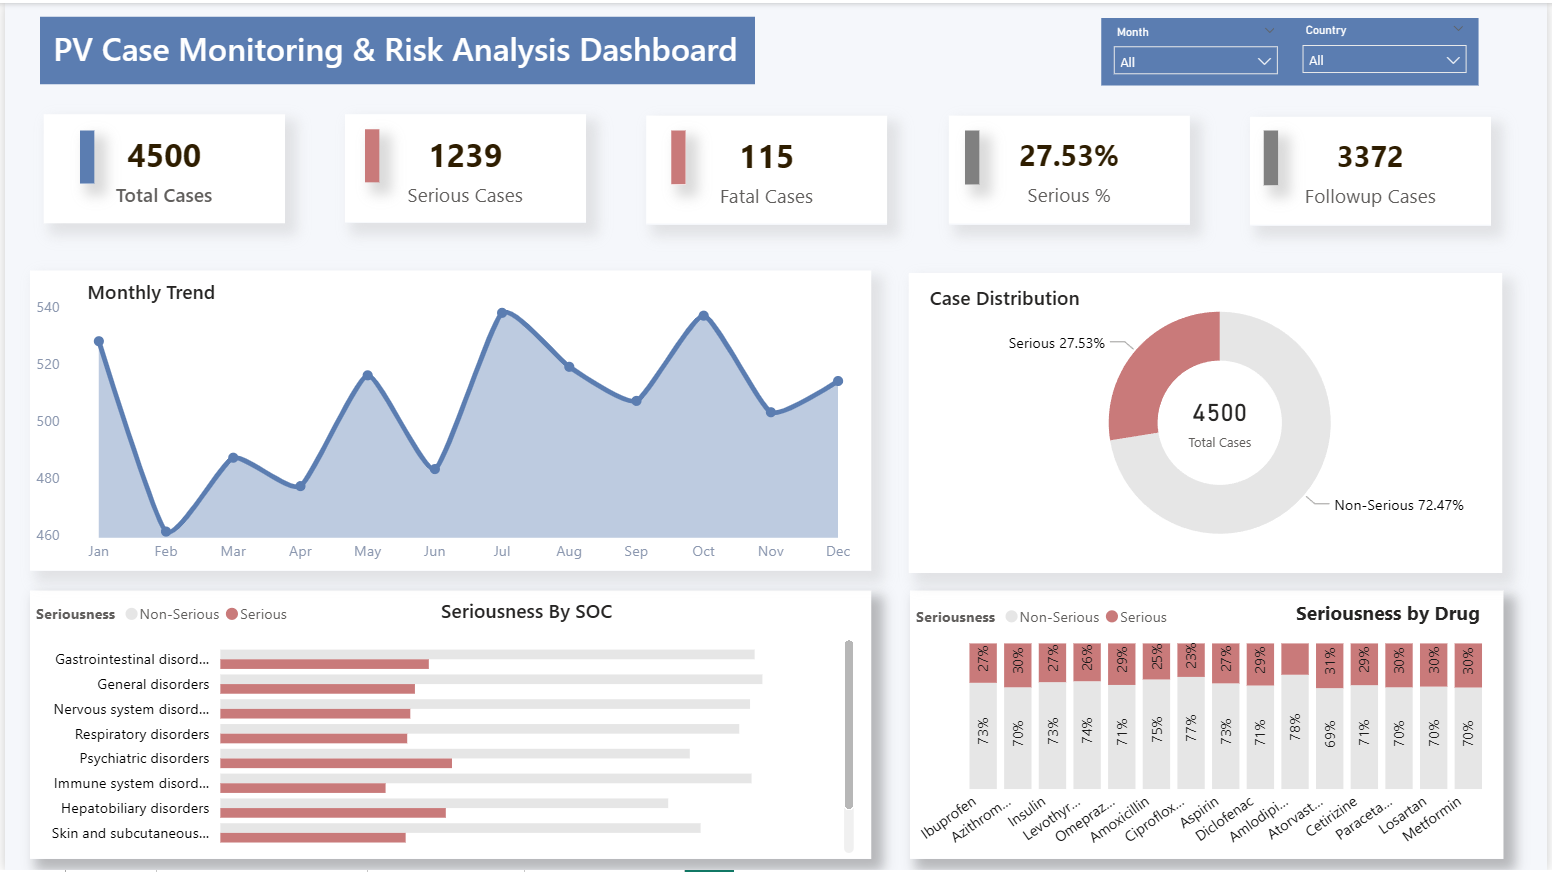

This screenshot's page, from the dashboard's own definition file:
{"tool":"powerbi","page":{"name":" Overview & Monitoring","canvas":[1280,720],"ordinal":1},"visuals":[{"type":"shape","box":[908.8,12.4,313,56],"z":0},{"type":"shape","box":[29,11.4,592.7,56],"z":1000},{"type":"shape","box":[750.3,487,492.2,222.8],"z":2000},{"type":"shape","box":[20.7,487,697.4,222.8],"z":3000},{"type":"shape","box":[749.2,223.8,492.2,248.7],"z":4000},{"type":"shape","box":[20.7,221.8,697.4,248.7],"z":5000},{"type":"textbox","box":[35.2,14.5,585.5,48.7],"z":6000},{"type":"group","id":"g1","title":"Group 1","box":[532.1,93.2,200,90],"z":7000,"group":"g7"},{"type":"areaChart","fields":{"Y":["PV_Cases.Total Cases"],"Category":["Date.Month"]},"box":[20.7,238.3,697.4,234.2],"z":7000},{"type":"group","id":"g2","title":"Group 3","box":[282.1,92.7,200,90],"z":8000,"group":"g6"},{"type":"textbox","box":[63.2,222.8,131.6,32.1],"z":8000},{"type":"clusteredBarChart","fields":{"Category":["Dim_Soc.SOCName"],"Y":["PV_Cases.Total Cases"],"Series":["PV_Cases.Seriousness"]},"box":[20.7,487,688.1,222.8],"z":9000},{"type":"group","id":"g3","title":"Group 2","box":[1032.1,94.3,200,90],"z":10000,"group":"g9"},{"type":"textbox","box":[356.5,487,166.8,41.5],"z":10000},{"type":"group","id":"g4","title":"Group 4","box":[32.1,92.7,200,90],"z":11000},{"type":"group","id":"g5","title":"Group 5","box":[782.1,93.7,200,90],"z":11000,"group":"g8"},{"type":"card","fields":{"Values":["PV_Cases.Total Cases"]},"box":[32.1,92.7,200,90],"z":12000,"group":"g4"},{"type":"group","id":"g6","title":"Group 7","box":[282.1,92.7,200,90],"z":12000},{"type":"card","fields":{"Values":["1st page measure.Initial Cases"]},"box":[1032.1,94.3,200,90],"z":12000,"group":"g3"},{"type":"card","fields":{"Values":["1st page measure.Serious Cases"]},"box":[282.1,92.7,199.7,90],"z":13000,"group":"g2"},{"type":"group","id":"g7","title":"Group 9","box":[532.1,93.2,200,90],"z":13000},{"type":"shape","box":[298.7,105.3,11.9,44.1],"z":13000,"group":"g6"},{"type":"card","fields":{"Values":["1st page measure.Fatal Cases"]},"box":[532.1,93.2,200,90],"z":14000,"group":"g1"},{"type":"group","id":"g8","title":"Group 10","box":[782.1,93.7,200,90],"z":14000},{"type":"shape","box":[61.8,106.2,11.9,44.1],"z":14000,"group":"g4"},{"type":"card","fields":{"Values":["1st page measure.Serious %"]},"box":[782.1,93.7,200,90],"z":15000,"group":"g5"},{"type":"group","id":"g9","title":"Group 11","box":[1032.1,94.3,200,90],"z":15000},{"type":"shape","box":[552.4,105.5,11.9,44.5],"z":15000,"group":"g7"},{"type":"shape","box":[795.2,105.7,11.9,45],"z":16000,"group":"g8"},{"type":"donutChart","fields":{"Category":["PV_Cases.Seriousness"],"Y":["PV_Cases.Total Cases"]},"box":[761.7,223.8,491.2,248.7],"z":16000},{"type":"shape","box":[1043,105.9,11.9,45.5],"z":17000,"group":"g9"},{"type":"textbox","box":[761.7,228,147.2,32.1],"z":17000},{"type":"card","fields":{"Values":["PV_Cases.Total Cases"]},"box":[949.2,308.8,116.1,74.6],"z":18000},{"type":"hundredPercentStackedColumnChart","fields":{"Category":["Dim_product.DrugName"],"Series":["PV_Cases.Seriousness"],"Y":["PV_Cases.Total Cases"]},"box":[750.3,489.1,491.2,220.7],"z":19000},{"type":"textbox","box":[1065.3,489.1,176.2,39.4],"z":20000},{"type":"slicer","fields":{"Values":["Date.Month"]},"box":[908.8,13.5,156.5,52.8],"z":21000},{"type":"slicer","fields":{"Values":["Dim_Country.Country"]},"box":[1065.3,12.4,156.5,51.8],"z":22000}]}

Visuals, with their boxes in screenshot pixels (x1, y1, x2, y2), scaled from the page's 1280x720 canvas onto the 1552x872 screenshot:
shape: locate(1102, 15, 1481, 83)
shape: locate(35, 14, 754, 82)
shape: locate(910, 590, 1507, 860)
shape: locate(25, 590, 871, 860)
shape: locate(908, 271, 1505, 572)
shape: locate(25, 269, 871, 570)
textbox: locate(43, 18, 753, 77)
"Group 1" group: locate(645, 113, 888, 222)
areaChart - PV_Cases.Total Cases x Date.Month: locate(25, 289, 871, 572)
"Group 3" group: locate(342, 112, 585, 221)
textbox: locate(77, 270, 236, 309)
clusteredBarChart - Dim_Soc.SOCName x PV_Cases.Total Cases: locate(25, 590, 859, 860)
"Group 2" group: locate(1251, 114, 1494, 223)
textbox: locate(432, 590, 635, 640)
"Group 4" group: locate(39, 112, 281, 221)
"Group 5" group: locate(948, 113, 1191, 222)
card - PV_Cases.Total Cases: locate(39, 112, 281, 221)
"Group 7" group: locate(342, 112, 585, 221)
card - 1st page measure.Initial Cases: locate(1251, 114, 1494, 223)
card - 1st page measure.Serious Cases: locate(342, 112, 584, 221)
"Group 9" group: locate(645, 113, 888, 222)
shape: locate(362, 128, 377, 181)
card - 1st page measure.Fatal Cases: locate(645, 113, 888, 222)
"Group 10" group: locate(948, 113, 1191, 222)
shape: locate(75, 129, 89, 182)
card - 1st page measure.Serious %: locate(948, 113, 1191, 222)
"Group 11" group: locate(1251, 114, 1494, 223)
shape: locate(670, 128, 684, 182)
shape: locate(964, 128, 979, 183)
donutChart - PV_Cases.Seriousness x PV_Cases.Total Cases: locate(924, 271, 1519, 572)
shape: locate(1265, 128, 1279, 183)
textbox: locate(924, 276, 1102, 315)
card - PV_Cases.Total Cases: locate(1151, 374, 1292, 464)
hundredPercentStackedColumnChart - Dim_product.DrugName x PV_Cases.Seriousness: locate(910, 592, 1505, 860)
textbox: locate(1292, 592, 1505, 640)
slicer - Date.Month: locate(1102, 16, 1292, 80)
slicer - Dim_Country.Country: locate(1292, 15, 1481, 78)
